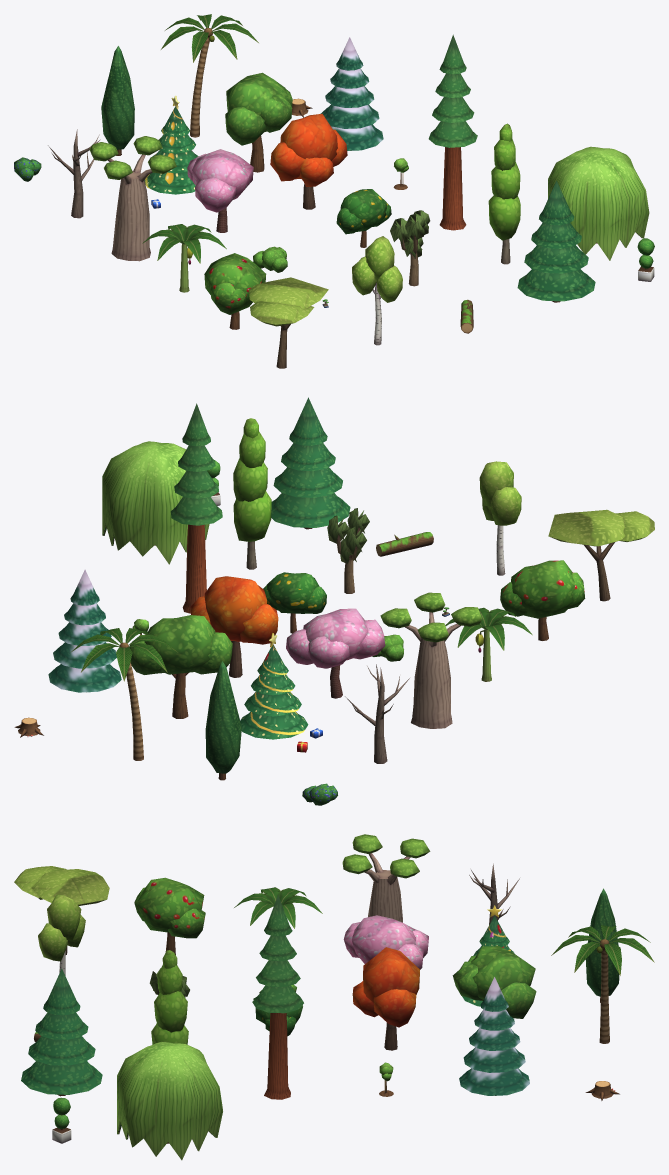
Rendered from trees_pack.glb.
The picture shows the model from 3 angles, top to bottom: view 1: azimuth 30°, elevation 25°; view 2: azimuth 150°, elevation 25°; view 3: azimuth 270°, elevation 25°; orthographic projection. The views are drawn at different scales.
Parts seen in each view (by area): view 1: WillowTree, PineTree, BaobabTree, RedwoodTree, MapleTree, OakTree, SnowyPine, CherryBlossom, AcaciaTree, PoplarTree, AppleTree, BirchTree (+9 smaller); view 2: WillowTree, PineTree, BaobabTree, RedwoodTree, OakTree, SnowyPine, CherryBlossom, MapleTree, ChristmasTree, AppleTree, PoplarTree, AcaciaTree (+9 smaller); view 3: WillowTree, PineTree, RedwoodTree, SnowyPine, MapleTree, OakTree, AppleTree, BaobabTree, CherryBlossom, AcaciaTree, PalmTree, PoplarTree (+7 smaller).
Part boxes in pixels (x1=…): WillowTree: x1=548, y1=146, x2=649, y2=260; PineTree: x1=517, y1=181, x2=595, y2=302; BaobabTree: x1=89, y1=136, x2=176, y2=261; RedwoodTree: x1=428, y1=34, x2=477, y2=230; MapleTree: x1=270, y1=113, x2=347, y2=209; OakTree: x1=225, y1=72, x2=292, y2=172; SnowyPine: x1=320, y1=37, x2=383, y2=150; CherryBlossom: x1=187, y1=149, x2=253, y2=232; AcaciaTree: x1=248, y1=277, x2=328, y2=368; PoplarTree: x1=488, y1=123, x2=520, y2=264; AppleTree: x1=204, y1=253, x2=266, y2=329; BirchTree: x1=352, y1=236, x2=402, y2=345; WillowTree: x1=102, y1=441, x2=209, y2=564; PineTree: x1=271, y1=397, x2=350, y2=529; BaobabTree: x1=380, y1=592, x2=482, y2=728; RedwoodTree: x1=170, y1=403, x2=222, y2=613; OakTree: x1=129, y1=615, x2=232, y2=718; SnowyPine: x1=48, y1=569, x2=121, y2=692; CherryBlossom: x1=286, y1=608, x2=385, y2=698; MapleTree: x1=190, y1=576, x2=278, y2=677; ChristmasTree: x1=240, y1=633, x2=322, y2=752; AppleTree: x1=500, y1=560, x2=585, y2=640; PoplarTree: x1=233, y1=418, x2=271, y2=569; AcaciaTree: x1=548, y1=509, x2=654, y2=601; WillowTree: x1=117, y1=1042, x2=222, y2=1160; PineTree: x1=21, y1=968, x2=102, y2=1096; RedwoodTree: x1=252, y1=895, x2=303, y2=1099; SnowyPine: x1=459, y1=977, x2=529, y2=1095; MapleTree: x1=352, y1=947, x2=419, y2=1050; OakTree: x1=452, y1=946, x2=536, y2=1018; AppleTree: x1=134, y1=877, x2=205, y2=954; BaobabTree: x1=342, y1=834, x2=430, y2=922; CherryBlossom: x1=343, y1=915, x2=428, y2=969; AcaciaTree: x1=14, y1=866, x2=109, y2=954; PalmTree: x1=551, y1=925, x2=654, y2=1043; PoplarTree: x1=151, y1=950, x2=188, y2=1044.
Size of the model in its own units: 29.68 by 12.2 by 35.55.
Materials: 3 (3 with a texture image).
